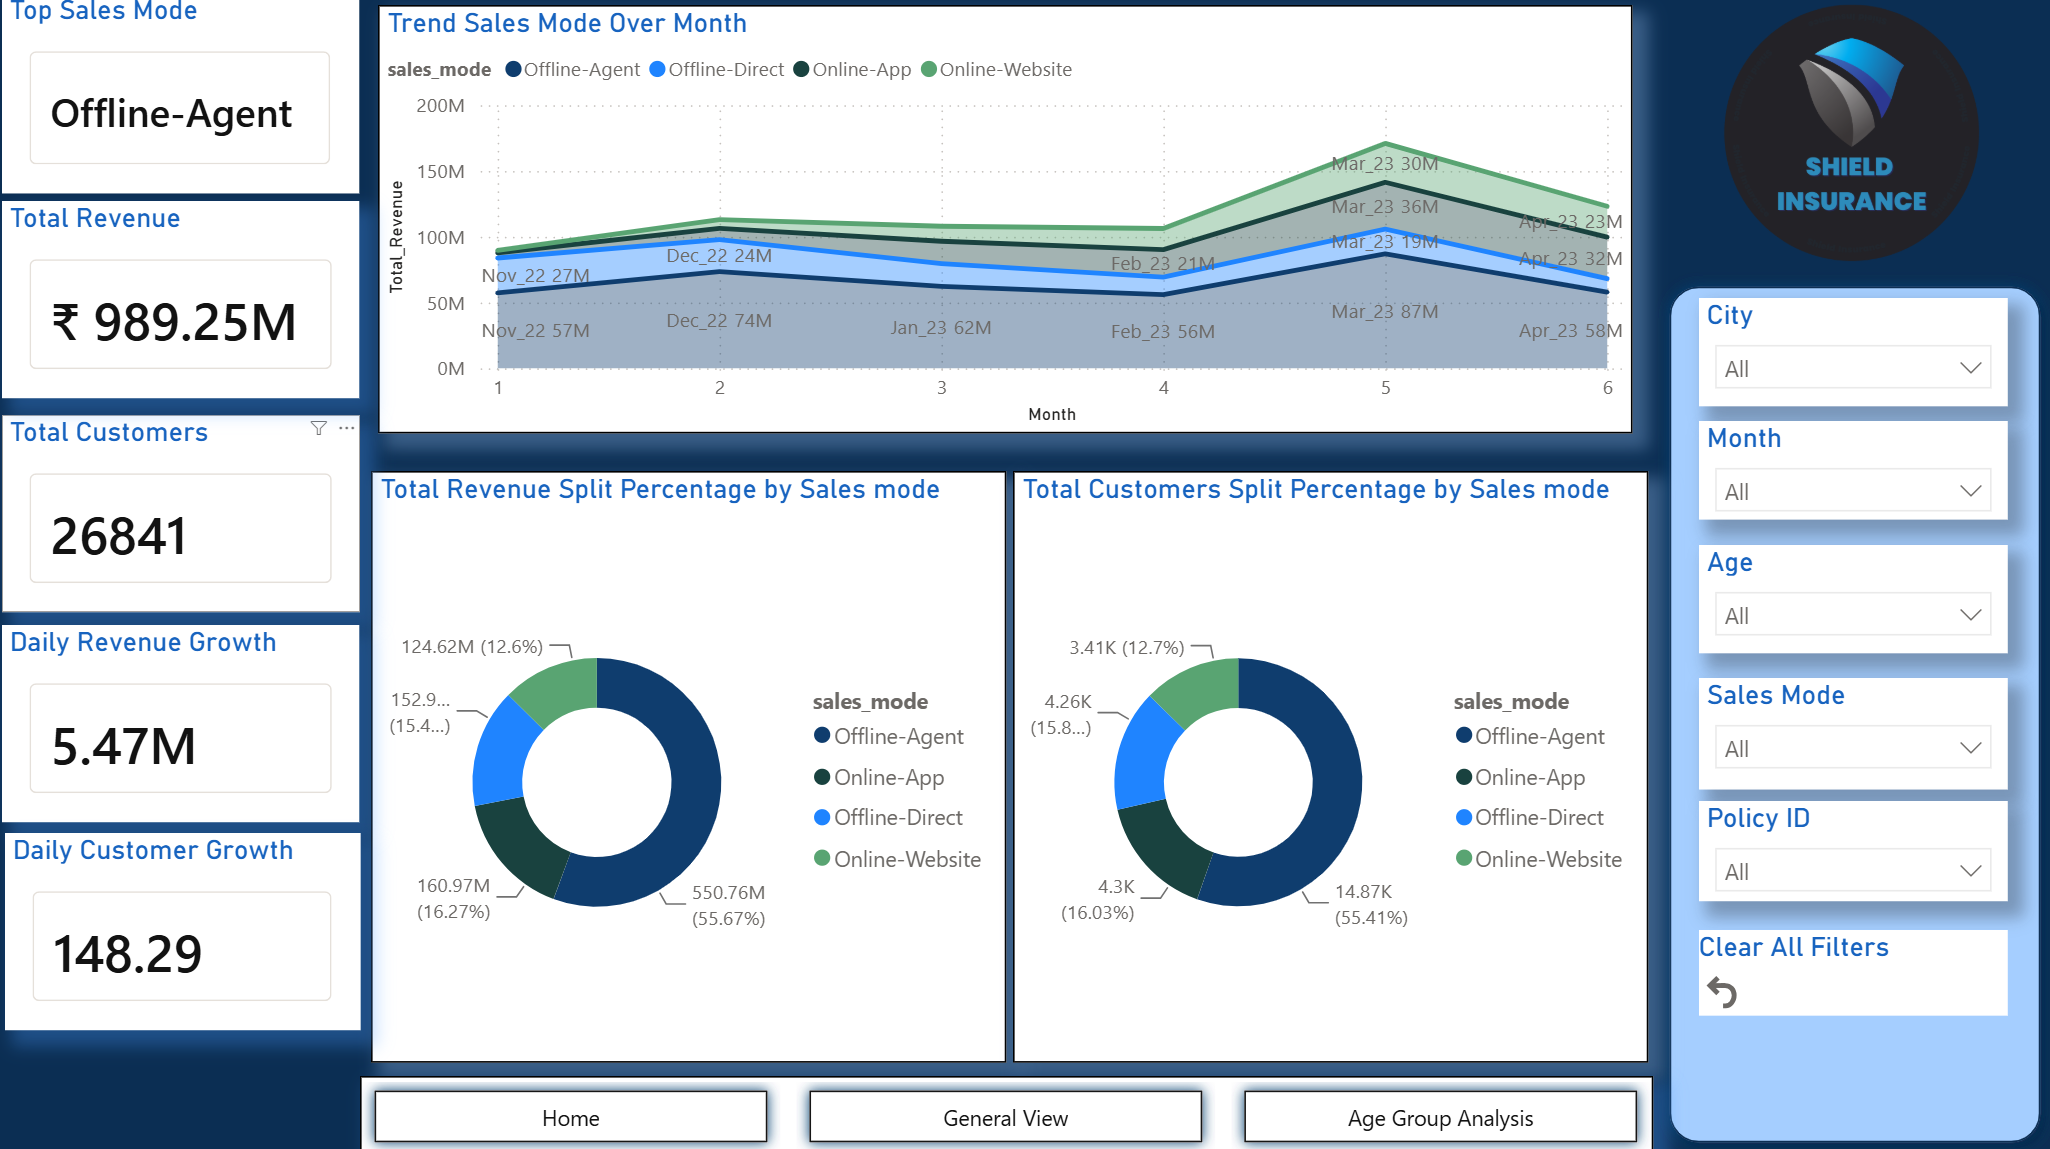

The page's visual inventory and layout, read from the dashboard file:
{"tool":"powerbi","page":{"name":"Sales Mode Analysis","canvas":[1280,720],"ordinal":2},"visuals":[{"type":"shape","box":[1032.4,172.6,247.4,547.4],"z":0},{"type":"donutChart","title":"Total Revenue Split Percentage by Sales mode","fields":{"Category":["fact_premiums.sales_mode"],"Y":["fact_premiums.Total_Revenue"]},"box":[238.1,295.7,393.4,366.2],"z":1000},{"type":"stackedAreaChart","title":"Trend Sales Mode Over Month","fields":{"Series":["fact_premiums.sales_mode"],"Y":["fact_premiums.Total_Revenue"],"Category":["dim_date.MonthNumber"]},"box":[242.5,7.4,776.3,264.7],"z":2000},{"type":"image","box":[1028.3,0,251.7,172.6],"z":3000},{"type":"donutChart","title":"Total Customers Split Percentage by Sales mode","fields":{"Category":["fact_premiums.sales_mode"],"Y":["dim_customer.Total_Customers"]},"box":[635.3,295.7,392.8,366.2],"z":4000},{"type":"slicer","title":"City","fields":{"Values":["dim_customer.city"]},"box":[1059.5,188.4,190.9,67.3],"z":5000},{"type":"slicer","title":"Month","fields":{"Values":["dim_date.mmm_yy"]},"box":[1059.5,264.9,190.9,61.2],"z":6000},{"type":"slicer","title":"Age","fields":{"Values":["fact_settlements.age"]},"box":[1059.5,341.3,190.9,66.7],"z":7000},{"type":"slicer","title":"Sales Mode","fields":{"Values":["fact_premiums.sales_mode"]},"box":[1059.5,423.9,190.9,68.5],"z":8000},{"type":"slicer","title":"Policy ID","fields":{"Values":["fact_premiums.policy_id"]},"box":[1059.5,499.8,190.9,61.8],"z":9000},{"type":"pageNavigator","box":[231.3,669.9,799.8,50.1],"z":10000},{"type":"actionButton","title":"Clear All Filters","box":[1059.6,579.6,191.1,52.6],"z":11000},{"type":"cardVisual","title":"Total Customers","fields":{"Data":["dim_customer.Total_Customers"]},"box":[9.9,261,221.4,121.9],"z":12000},{"type":"cardVisual","title":"Total Revenue","fields":{"Data":["fact_premiums.Total_Revenue"]},"box":[9.9,128.6,221.4,121.9],"z":13000},{"type":"cardVisual","title":"Daily Revenue Growth","fields":{"Data":["dim_customer.DRG"]},"box":[9.9,390.9,221.4,121.9],"z":14000},{"type":"cardVisual","title":"Daily Customer Growth","fields":{"Data":["dim_customer.DCG"]},"box":[11.8,519.6,219.6,121.9],"z":15000},{"type":"cardVisual","title":"Top Sales Mode","fields":{"Data":["dim_customer.Top Sales Mode"]},"box":[9.9,0,220.8,123.7],"z":16000}]}

Visuals, with their boxes in screenshot pixels (x1, y1, x2, y2), scaled from the page's 1280x720 canvas onto the 2050x1149 screenshot:
shape: Rect(1653, 275, 2049, 1148)
"Total Revenue Split Percentage by Sales mode" donutChart: Rect(381, 472, 1011, 1056)
"Trend Sales Mode Over Month" stackedAreaChart: Rect(388, 12, 1632, 434)
image: Rect(1647, 0, 2049, 275)
"Total Customers Split Percentage by Sales mode" donutChart: Rect(1017, 472, 1647, 1056)
"City" slicer: Rect(1697, 301, 2003, 408)
"Month" slicer: Rect(1697, 423, 2003, 520)
"Age" slicer: Rect(1697, 545, 2003, 651)
"Sales Mode" slicer: Rect(1697, 676, 2003, 786)
"Policy ID" slicer: Rect(1697, 798, 2003, 896)
pageNavigator: Rect(370, 1069, 1651, 1148)
"Clear All Filters" actionButton: Rect(1697, 925, 2003, 1009)
"Total Customers" cardVisual: Rect(16, 417, 370, 611)
"Total Revenue" cardVisual: Rect(16, 205, 370, 400)
"Daily Revenue Growth" cardVisual: Rect(16, 624, 370, 818)
"Daily Customer Growth" cardVisual: Rect(19, 829, 371, 1024)
"Top Sales Mode" cardVisual: Rect(16, 0, 369, 197)
